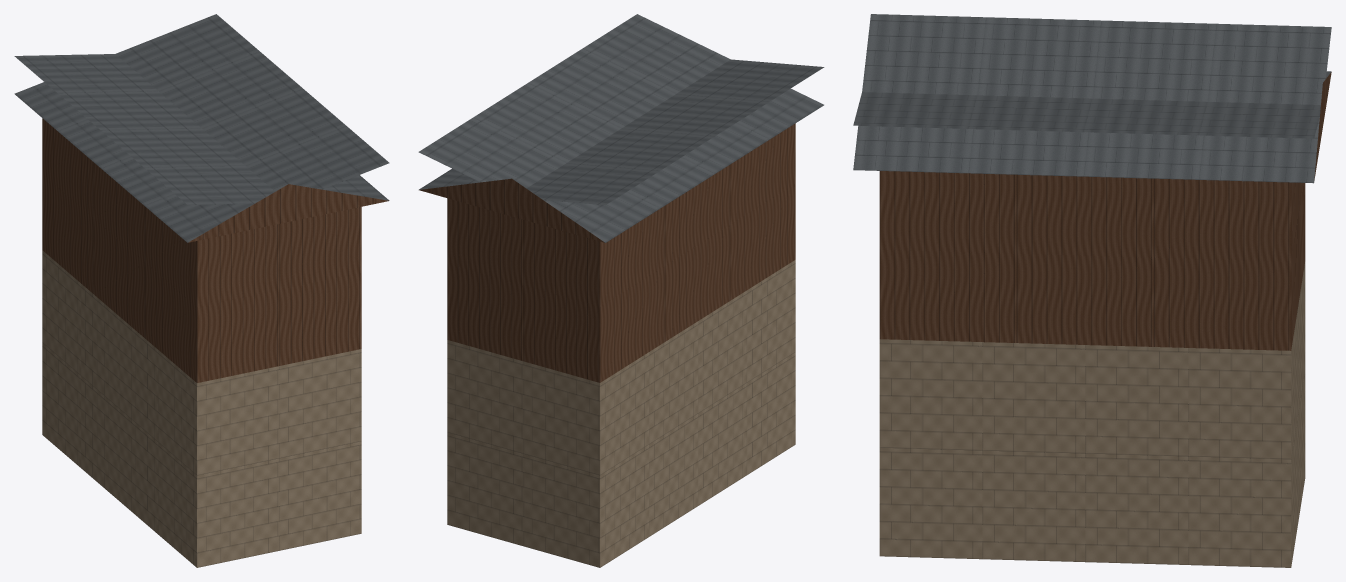
File: bld_c-28_4_563.gltf
3 views of the same model, side by side, from view 1: azimuth 30°, elevation 25°; view 2: azimuth 150°, elevation 25°; view 3: azimuth 270°, elevation 25° (orthographic). The views are drawn at different scales.
Parts seen in each view (by area): view 1: bld_c-28_4_563; view 2: bld_c-28_4_563; view 3: bld_c-28_4_563.
Boxes of the visible parts, left/top/right/bottom form: bld_c-28_4_563: left=14, top=14, right=389, bottom=567; bld_c-28_4_563: left=418, top=14, right=824, bottom=567; bld_c-28_4_563: left=853, top=14, right=1331, bottom=567.
Bounding box in the file's own units: 6.01 × 9.9 × 9.75.
Materials: 4 (4 with a texture image).
